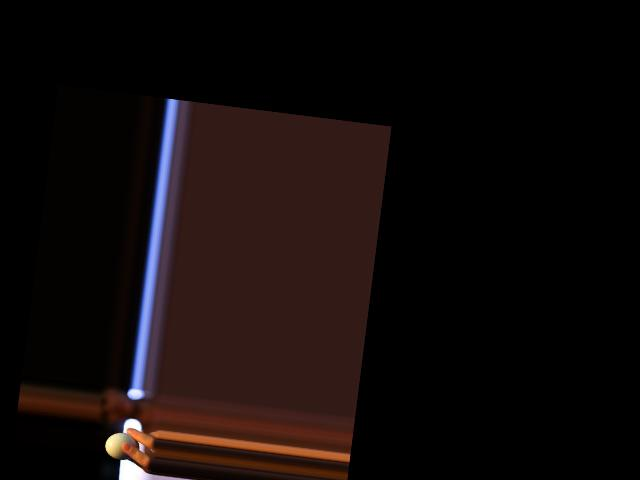egg: (104, 430, 141, 461)
